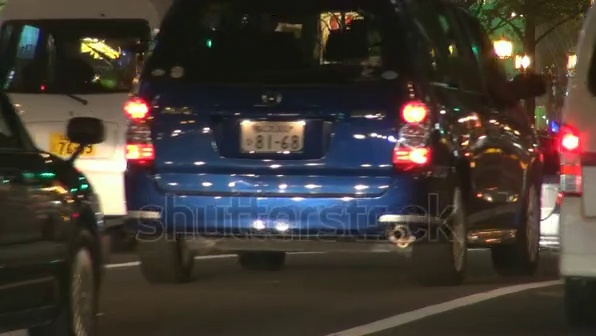licenseplate: (244, 127, 300, 161)
